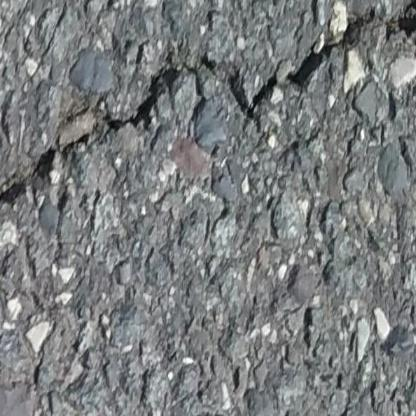Cracks: (99, 0, 416, 143), (0, 144, 62, 231)
